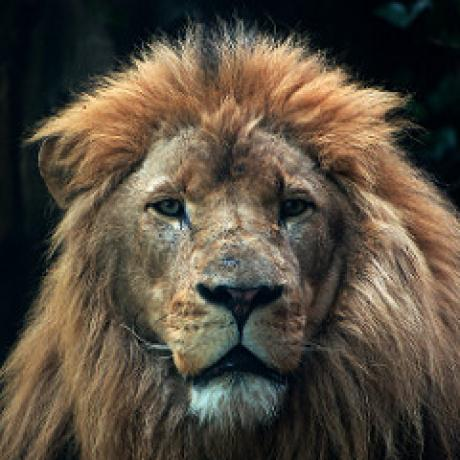Lion: (1, 10, 460, 460)
